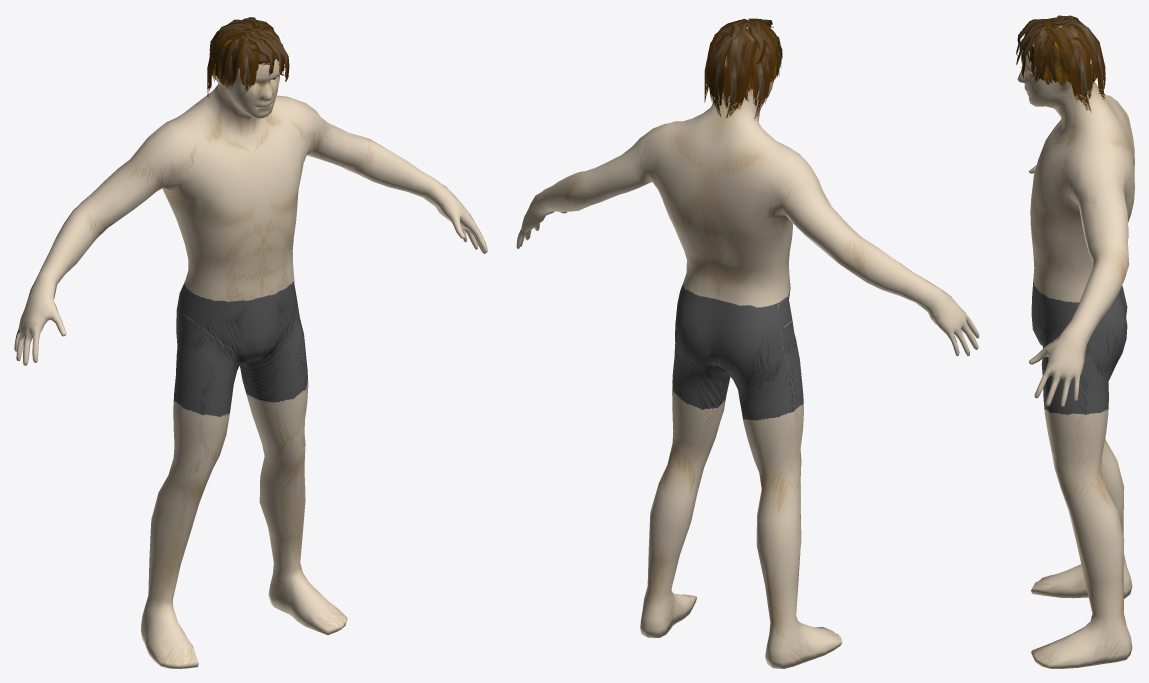
The model's file is Pers_1.glb.
3 renders of one model, left to right at view 1: azimuth 30°, elevation 25°; view 2: azimuth 150°, elevation 25°; view 3: azimuth 270°, elevation 25°, orthographic. The views are drawn at different scales.
Visible parts, largest first — view 1: Char, Hair; view 2: Char, Hair; view 3: Char, Hair.
Part boxes in pixels (left/top/right/bottom): Char: left=14, top=32, right=487, bottom=668; Hair: left=207, top=17, right=289, bottom=96; Char: left=516, top=27, right=979, bottom=668; Hair: left=704, top=18, right=782, bottom=120; Char: left=1017, top=26, right=1134, bottom=668; Hair: left=1016, top=15, right=1105, bottom=112.
Bounding box in the file's own units: 1.43 × 1.83 × 0.3477.
2 materials, 2 textured.
